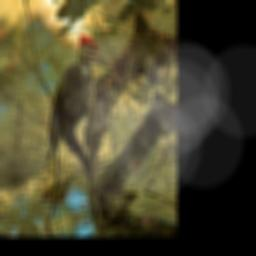Woodpecker: (20, 25, 127, 169)
